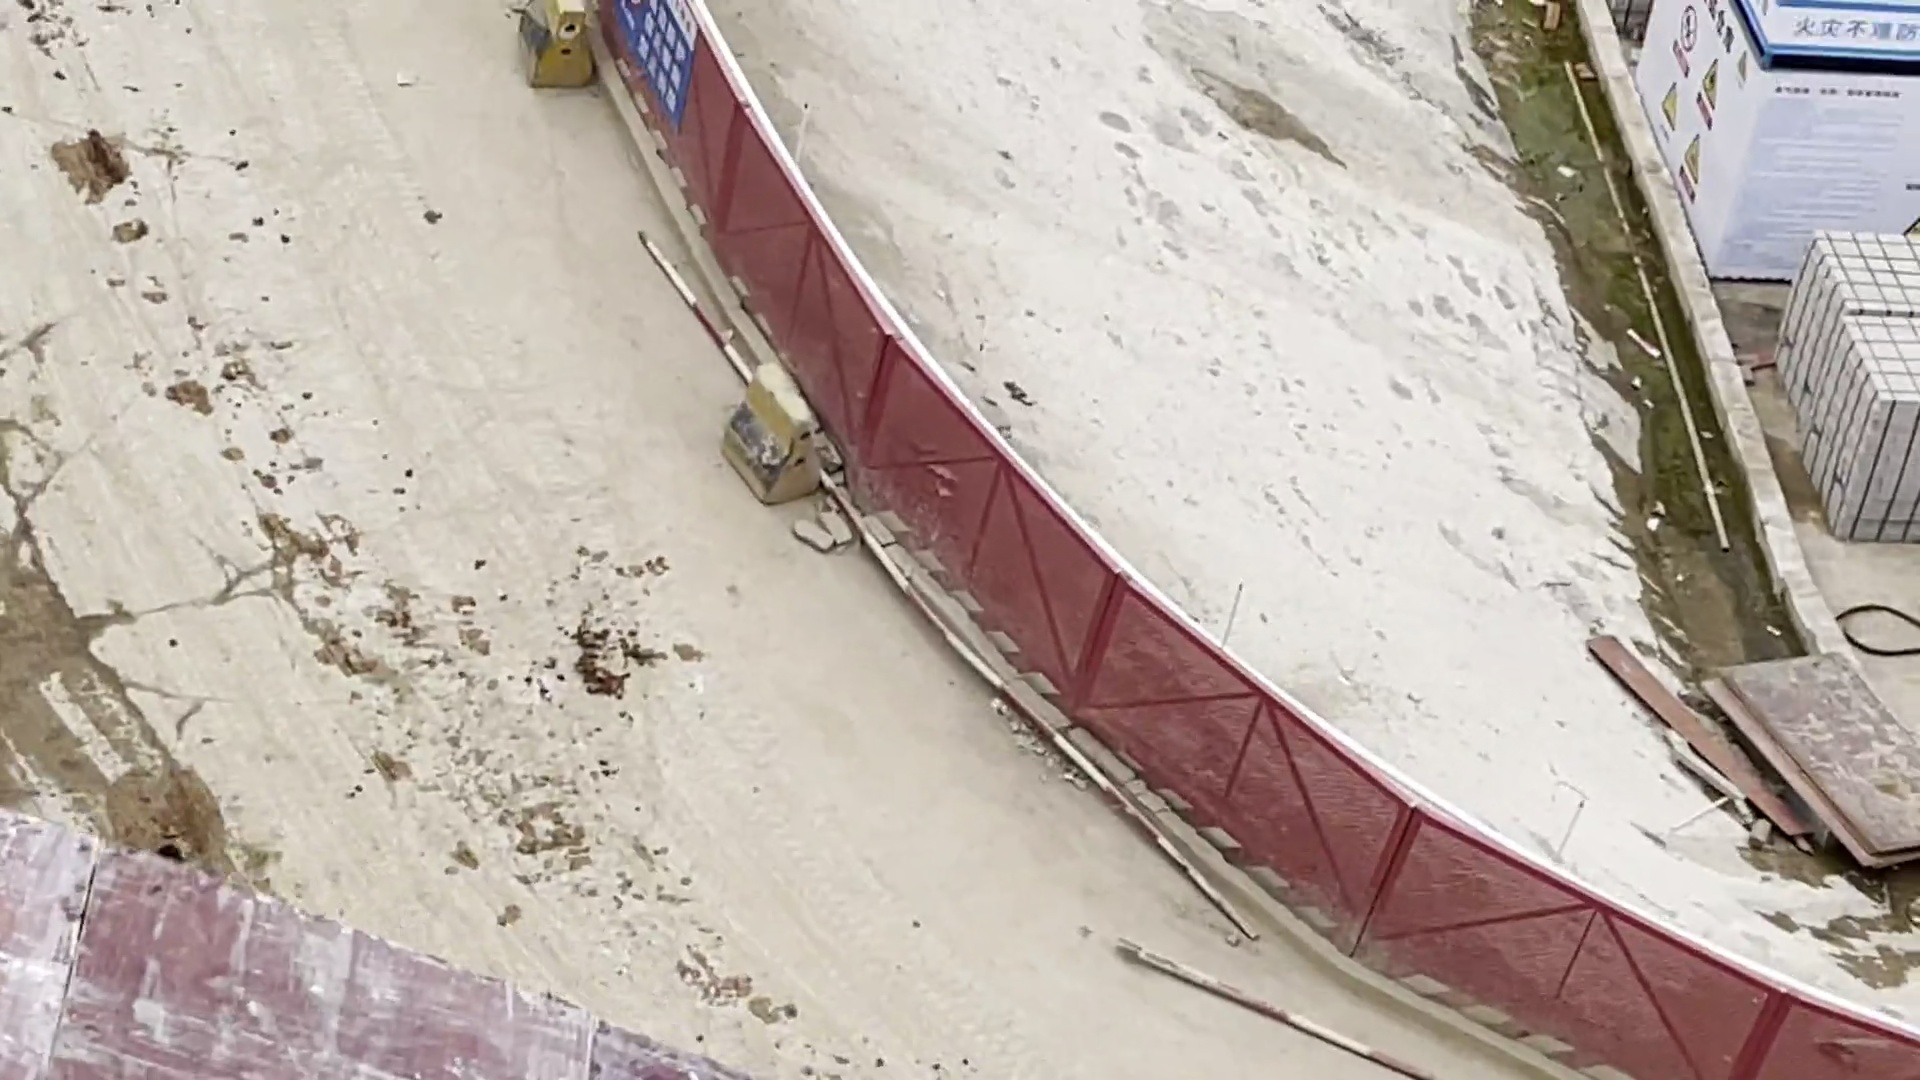board: (1696, 626, 1920, 880)
brick: (1771, 220, 1920, 550)
fence: (862, 334, 1414, 1018), (1365, 804, 1920, 1080), (589, 4, 881, 489)
slogan: (1621, 1, 1920, 287), (615, 1, 735, 141)
